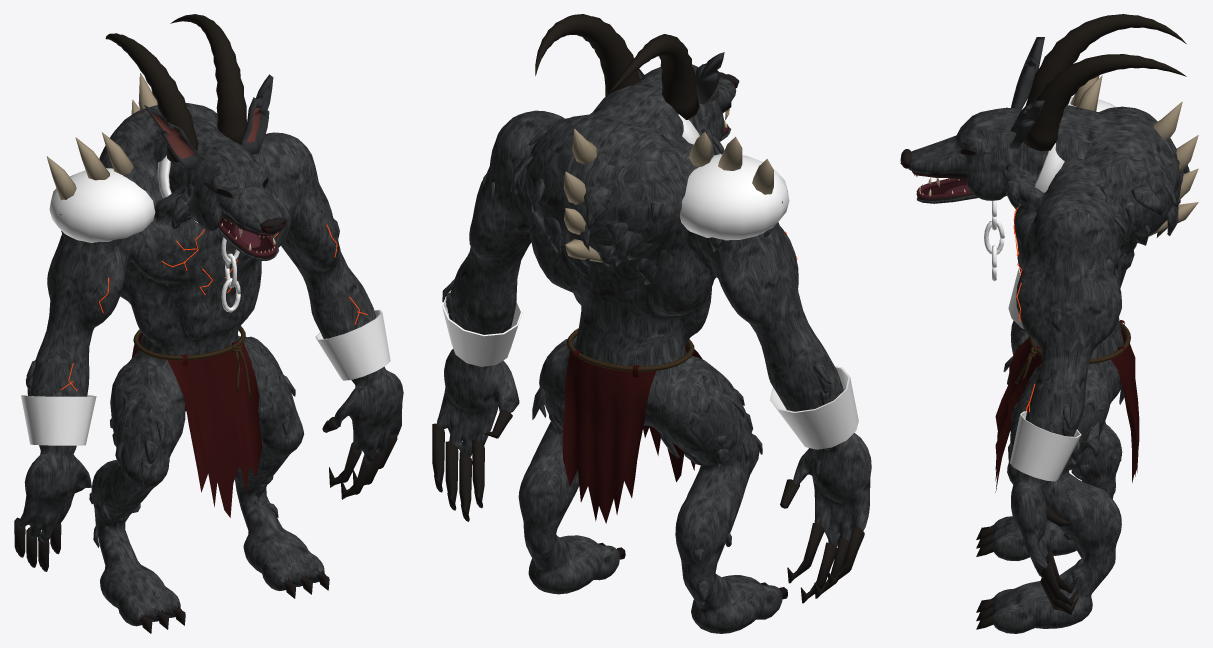
The model's file is werewolf.glb.
3 renders of one model, left to right at view 1: azimuth 30°, elevation 25°; view 2: azimuth 150°, elevation 25°; view 3: azimuth 270°, elevation 25°, orthographic. The views are drawn at different scales.
Parts seen in each view (by area): view 1: Lobisomem; view 2: Lobisomem; view 3: Lobisomem.
Part boxes in pixels (left/top/right/bottom): Lobisomem: left=14, top=14, right=403, bottom=633; Lobisomem: left=432, top=14, right=871, bottom=633; Lobisomem: left=900, top=14, right=1198, bottom=633.
Bounding box in the file's own units: 2.28 × 3.04 × 1.48.
19 materials, 8 textured.
